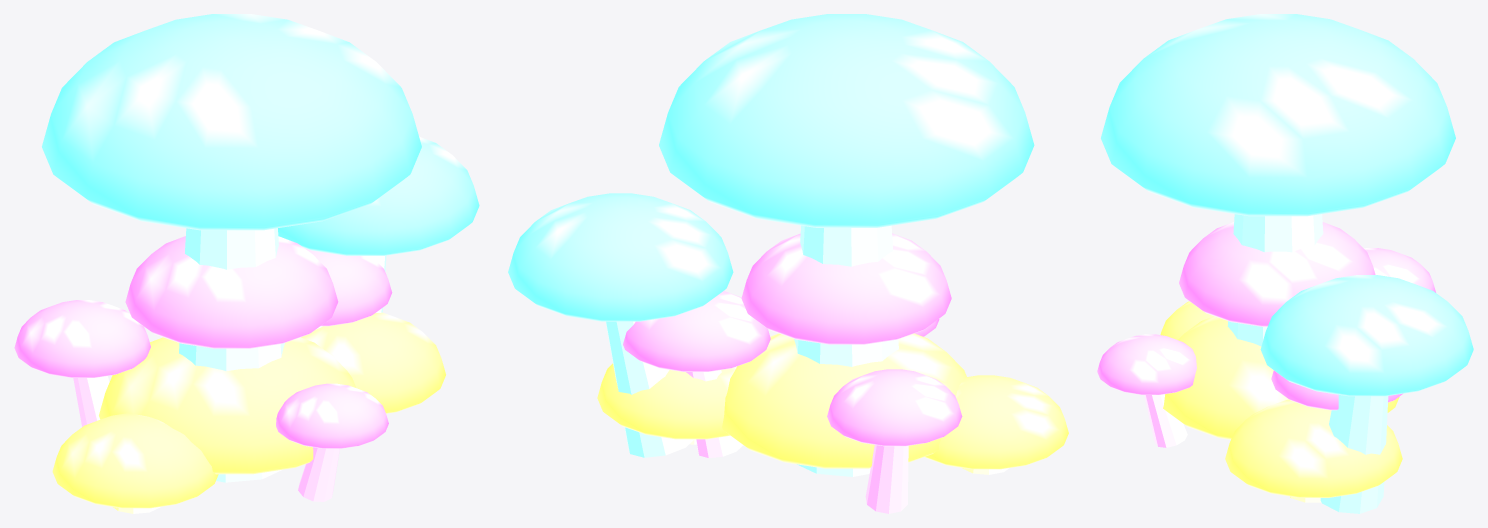
File: hongos-juego.glb
3 renders of one model, left to right at view 1: azimuth 30°, elevation 25°; view 2: azimuth 150°, elevation 25°; view 3: azimuth 270°, elevation 25°, orthographic. The views are drawn at different scales.
Visible parts, largest first — view 1: Hongos turquesa, Hongos lima, Hongos magenta; view 2: Hongos turquesa, Hongos magenta, Hongos lima; view 3: Hongos turquesa, Hongos lima, Hongos magenta.
Boxes of the visible parts, x1,y1,x2,y2 form: Hongos turquesa: (42, 14, 479, 482); Hongos lima: (52, 312, 445, 513); Hongos magenta: (14, 236, 392, 501); Hongos turquesa: (508, 14, 1034, 476); Hongos magenta: (623, 233, 962, 513); Hongos lima: (597, 333, 1068, 474); Hongos turquesa: (1101, 14, 1473, 513); Hongos lima: (1160, 301, 1402, 502); Hongos magenta: (1097, 222, 1435, 447).
Bounding box in the file's own units: 1.42 × 1.22 × 1.06.
